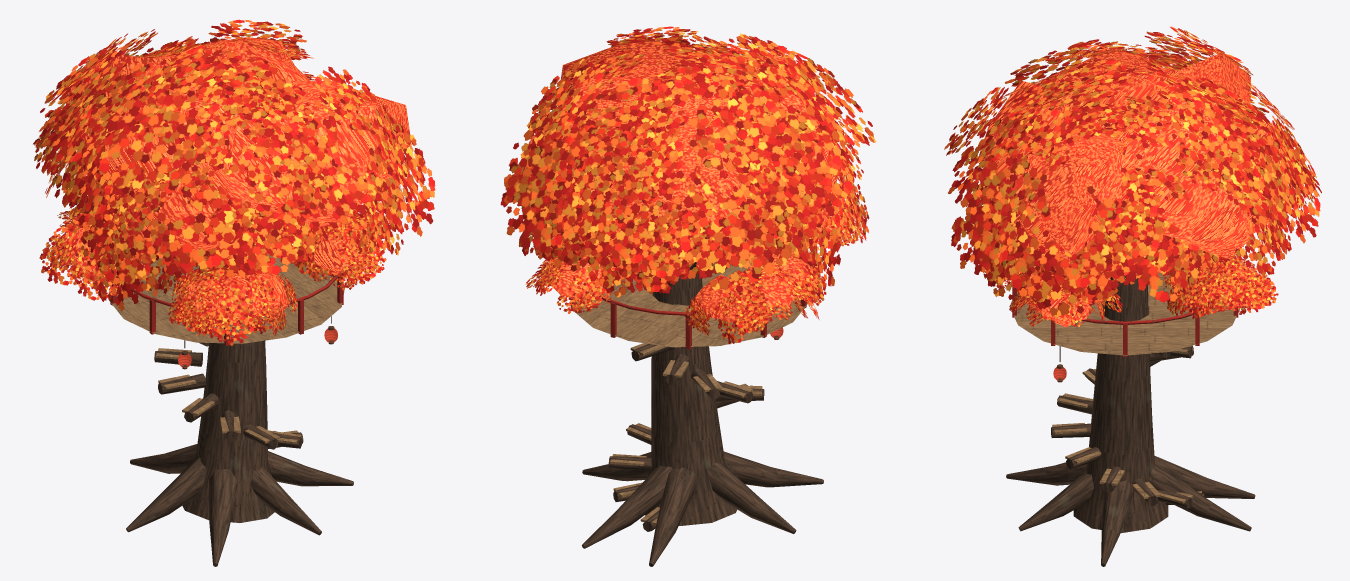
File: tree_maple_big.gltf
3 views of the same model, side by side, from view 1: azimuth 30°, elevation 25°; view 2: azimuth 150°, elevation 25°; view 3: azimuth 270°, elevation 25° (orthographic). The views are drawn at different scales.
Visible parts, largest first — view 1: Crown, Trunk, Deck; view 2: Crown, Trunk, Deck; view 3: Crown, Trunk, Deck.
Boxes of the visible parts, x1=… form: Crown: x1=33, y1=19, x2=435, y2=345; Trunk: x1=126, y1=254, x2=353, y2=566; Deck: x1=109, y1=247, x2=344, y2=449; Crown: x1=500, y1=26, x2=876, y2=344; Trunk: x1=582, y1=237, x2=823, y2=566; Deck: x1=570, y1=251, x2=807, y2=531; Crown: x1=944, y1=26, x2=1321, y2=327; Trunk: x1=1006, y1=275, x2=1255, y2=566; Deck: x1=1009, y1=269, x2=1240, y2=508.
Size of the model in its own units: 11.07 by 14.16 by 11.34.
Materials: 7 (7 with a texture image).
